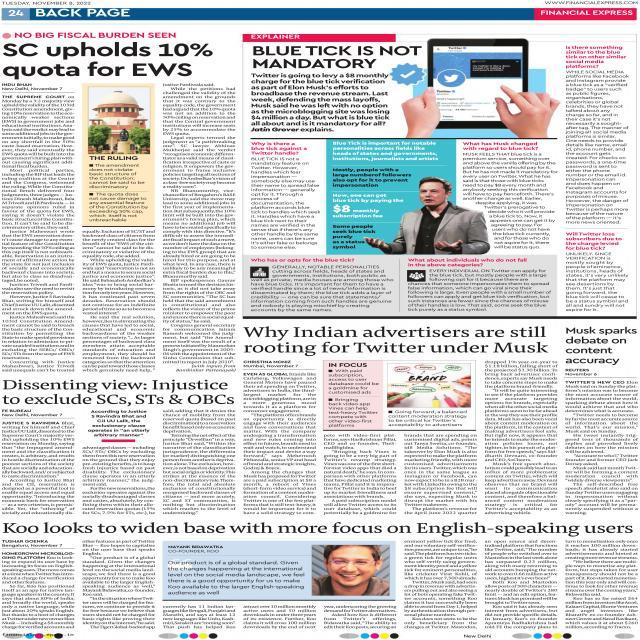Article: (237, 33, 636, 314), (0, 33, 238, 375), (0, 520, 640, 632), (242, 321, 560, 515), (0, 376, 243, 514), (563, 321, 640, 513)
Body: (162, 83, 237, 364), (1, 95, 76, 372), (484, 360, 558, 516), (242, 372, 318, 515), (82, 229, 156, 372), (565, 68, 631, 224), (564, 380, 640, 515), (250, 72, 390, 133), (162, 409, 238, 515), (1, 420, 76, 516), (248, 264, 396, 312), (402, 538, 478, 630), (484, 539, 560, 629), (564, 539, 640, 629), (82, 539, 156, 630), (250, 157, 322, 250), (406, 269, 552, 312), (323, 433, 398, 515), (403, 433, 478, 515), (1, 551, 76, 630), (80, 446, 156, 515), (462, 152, 559, 204), (564, 251, 631, 312), (483, 205, 558, 249), (242, 604, 318, 630), (322, 604, 398, 630), (162, 604, 236, 630), (88, 192, 150, 222), (87, 163, 147, 189), (327, 398, 379, 428), (328, 368, 380, 396), (388, 410, 468, 428)
Date: (1, 0, 92, 6)
Heading: (0, 520, 640, 536), (242, 326, 552, 357), (1, 40, 214, 80), (2, 379, 236, 406), (251, 44, 423, 70), (564, 326, 640, 366), (564, 45, 628, 69), (408, 258, 528, 268), (564, 232, 624, 250), (250, 142, 308, 156), (462, 141, 541, 151), (250, 257, 356, 264)
Highlights: (166, 559, 306, 596), (332, 140, 440, 162), (86, 408, 152, 438), (331, 194, 404, 218), (331, 167, 414, 188), (331, 223, 376, 250)
Image: (426, 38, 561, 138), (89, 86, 150, 154), (312, 544, 390, 596), (388, 363, 471, 407), (414, 175, 460, 254)
Name: (34, 8, 134, 18), (539, 10, 634, 16)
